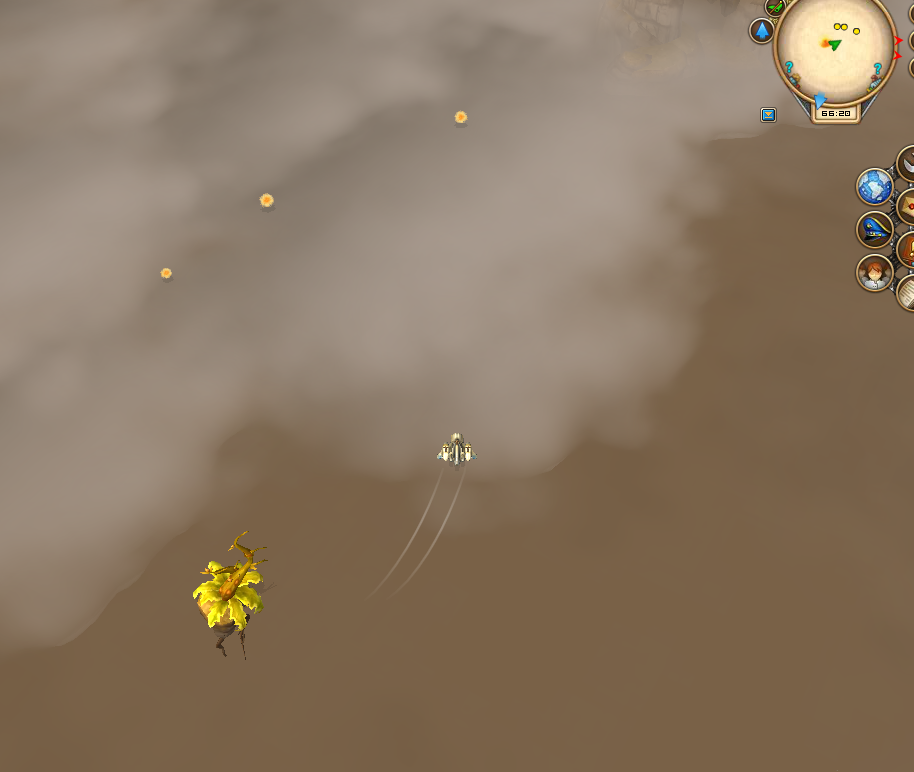dandelion-empty: (194, 522, 265, 648)
fluff: (449, 106, 472, 127), (257, 192, 276, 210), (156, 264, 176, 281)
